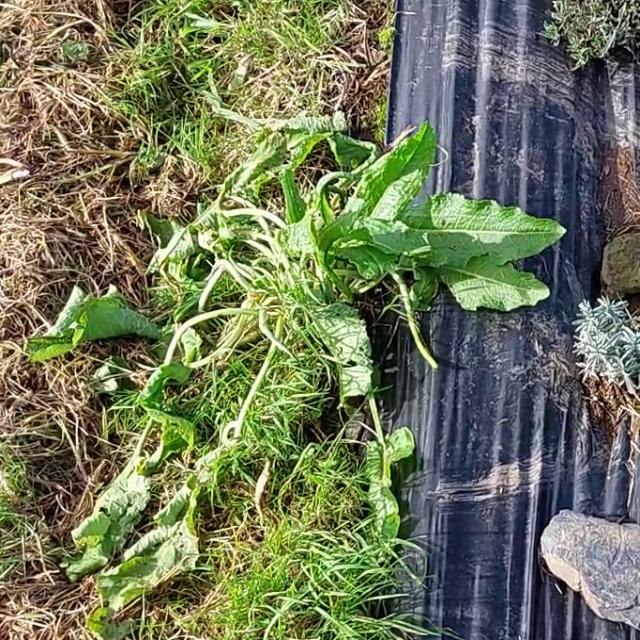organic waste: (128, 116, 595, 369), (249, 301, 521, 544), (99, 347, 247, 632), (4, 272, 268, 370)
